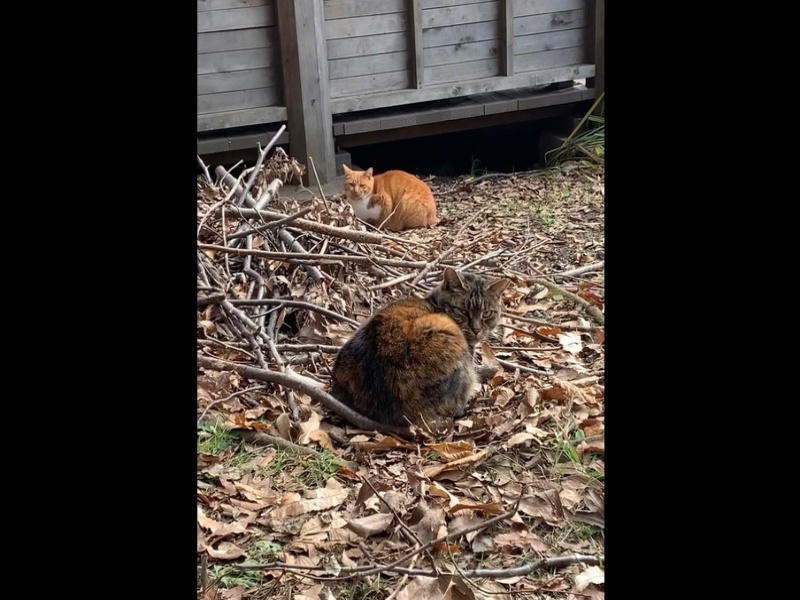cat: (325, 266, 514, 441), (336, 160, 446, 234)
